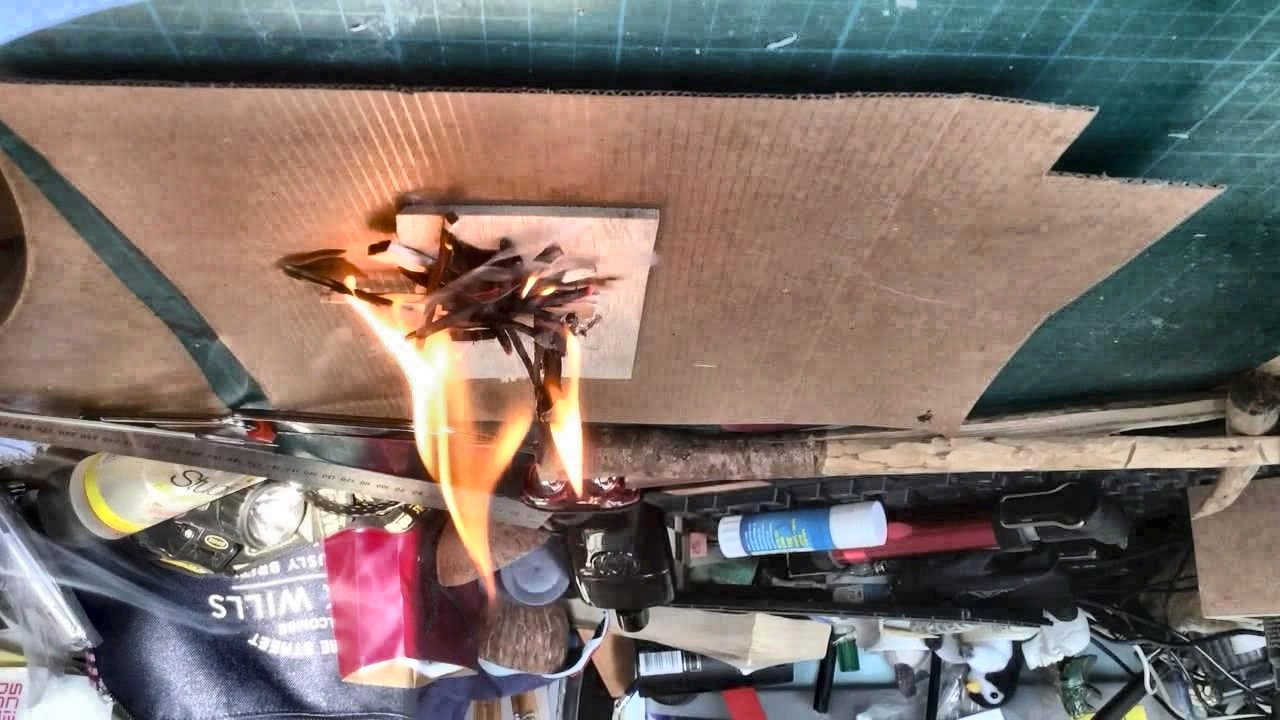fire: (375, 275, 584, 523)
